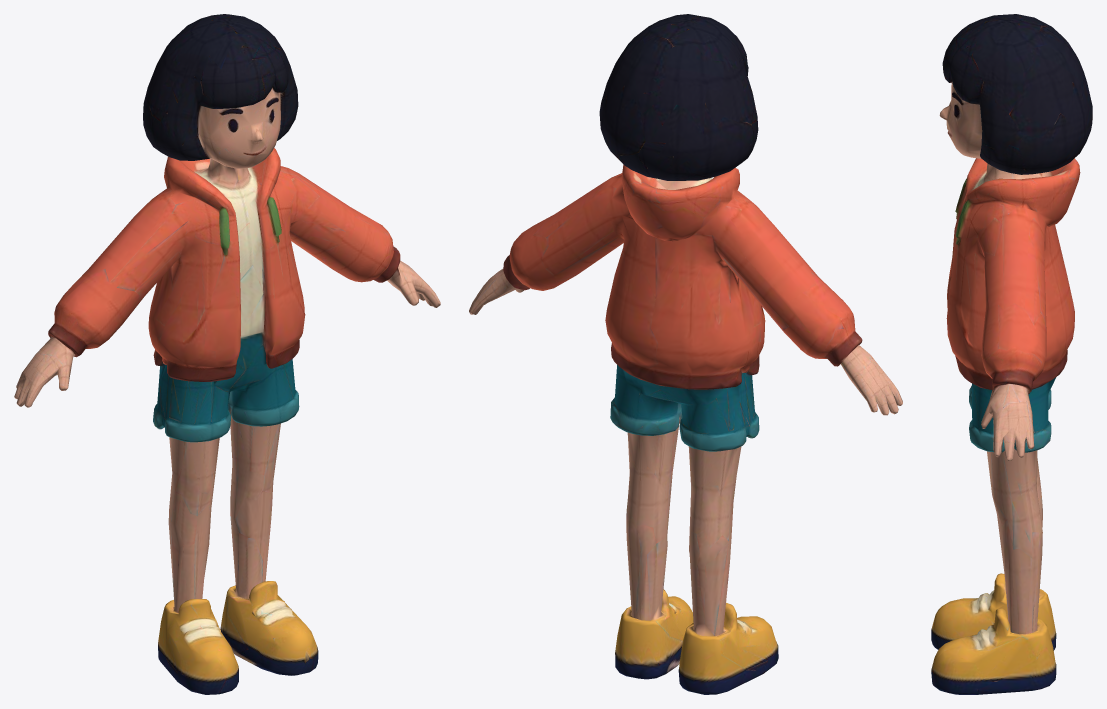
File: kid-girl-512.glb
3 renders of one model, left to right at view 1: azimuth 30°, elevation 25°; view 2: azimuth 150°, elevation 25°; view 3: azimuth 270°, elevation 25°, orthographic.
Bounding box in the file's own units: 1.31 × 1.9 × 0.432.
1 material, 1 textured.
